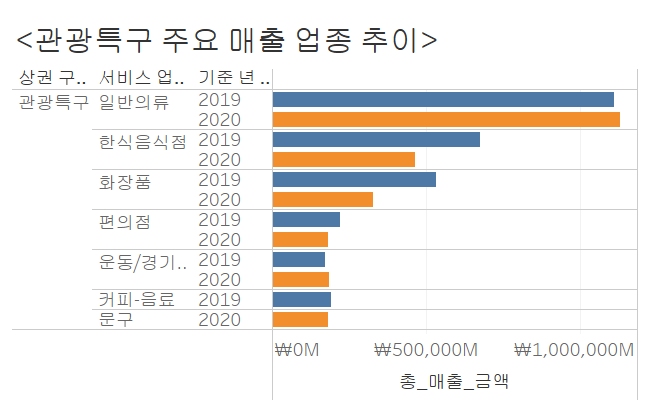

The dashboard page shown, as its layout file describes it:
{"tool":"tableau","page":{"name":"대시보드 3","canvas":[650,340],"ordinal":2},"visuals":[{"type":"worksheet","title":"2019-2020","mark":"Automatic","rows":["상권_구분_코드","상권_구분_코드_명","기준_년_코드"],"cols":["Calculation_1875467832722706446"],"box":[8,8,634,324]}]}

Visuals, with their boxes on the page's 650x340 design canvas (x1, y1, x2, y2). These are canvas units, not pixel positions in the 650x420 screenshot, which may show the page scaled, cropped or inside an application window:
"2019-2020" worksheet: (8,8,642,332)
